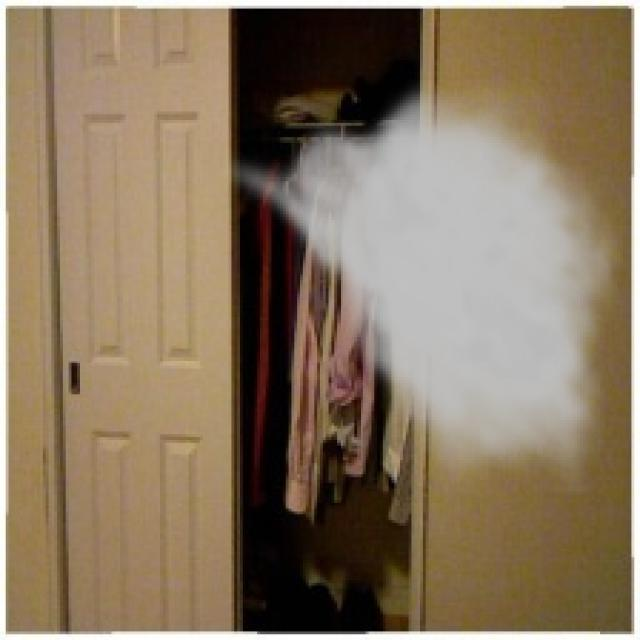Smoke: (211, 74, 623, 497)
